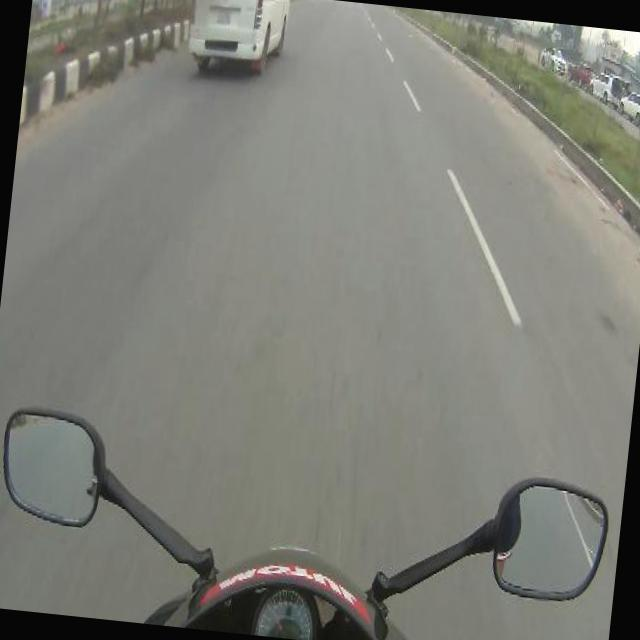car: (588, 70, 624, 103), (616, 90, 640, 126), (539, 43, 568, 69), (568, 59, 594, 84)
motorcycle: (0, 401, 616, 640)
truck: (180, 0, 293, 82)
